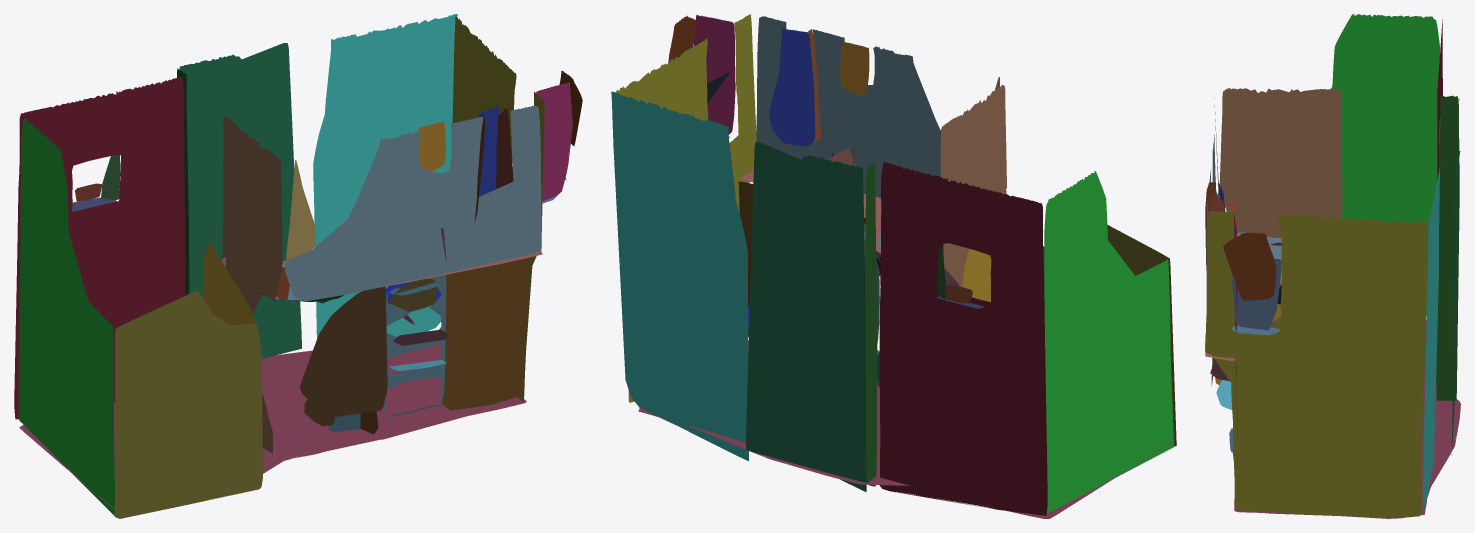
File: Ours-31a2c91c43.glb
The picture shows the model from 3 angles, left to right: view 1: azimuth 30°, elevation 25°; view 2: azimuth 150°, elevation 25°; view 3: azimuth 270°, elevation 25°; orthographic projection. The views are drawn at different scales.
Parts seen in each view (by area): view 1: piecewise-unnamed-scene2008_00-lean; view 2: piecewise-unnamed-scene2008_00-lean; view 3: piecewise-unnamed-scene2008_00-lean.
Boxes of the visible parts, x1,y1,x2,y2 form: piecewise-unnamed-scene2008_00-lean: (14, 14, 582, 518); piecewise-unnamed-scene2008_00-lean: (611, 14, 1176, 518); piecewise-unnamed-scene2008_00-lean: (1205, 14, 1460, 518).
Size of the model in its own units: 2.87 by 1.91 by 1.38.
